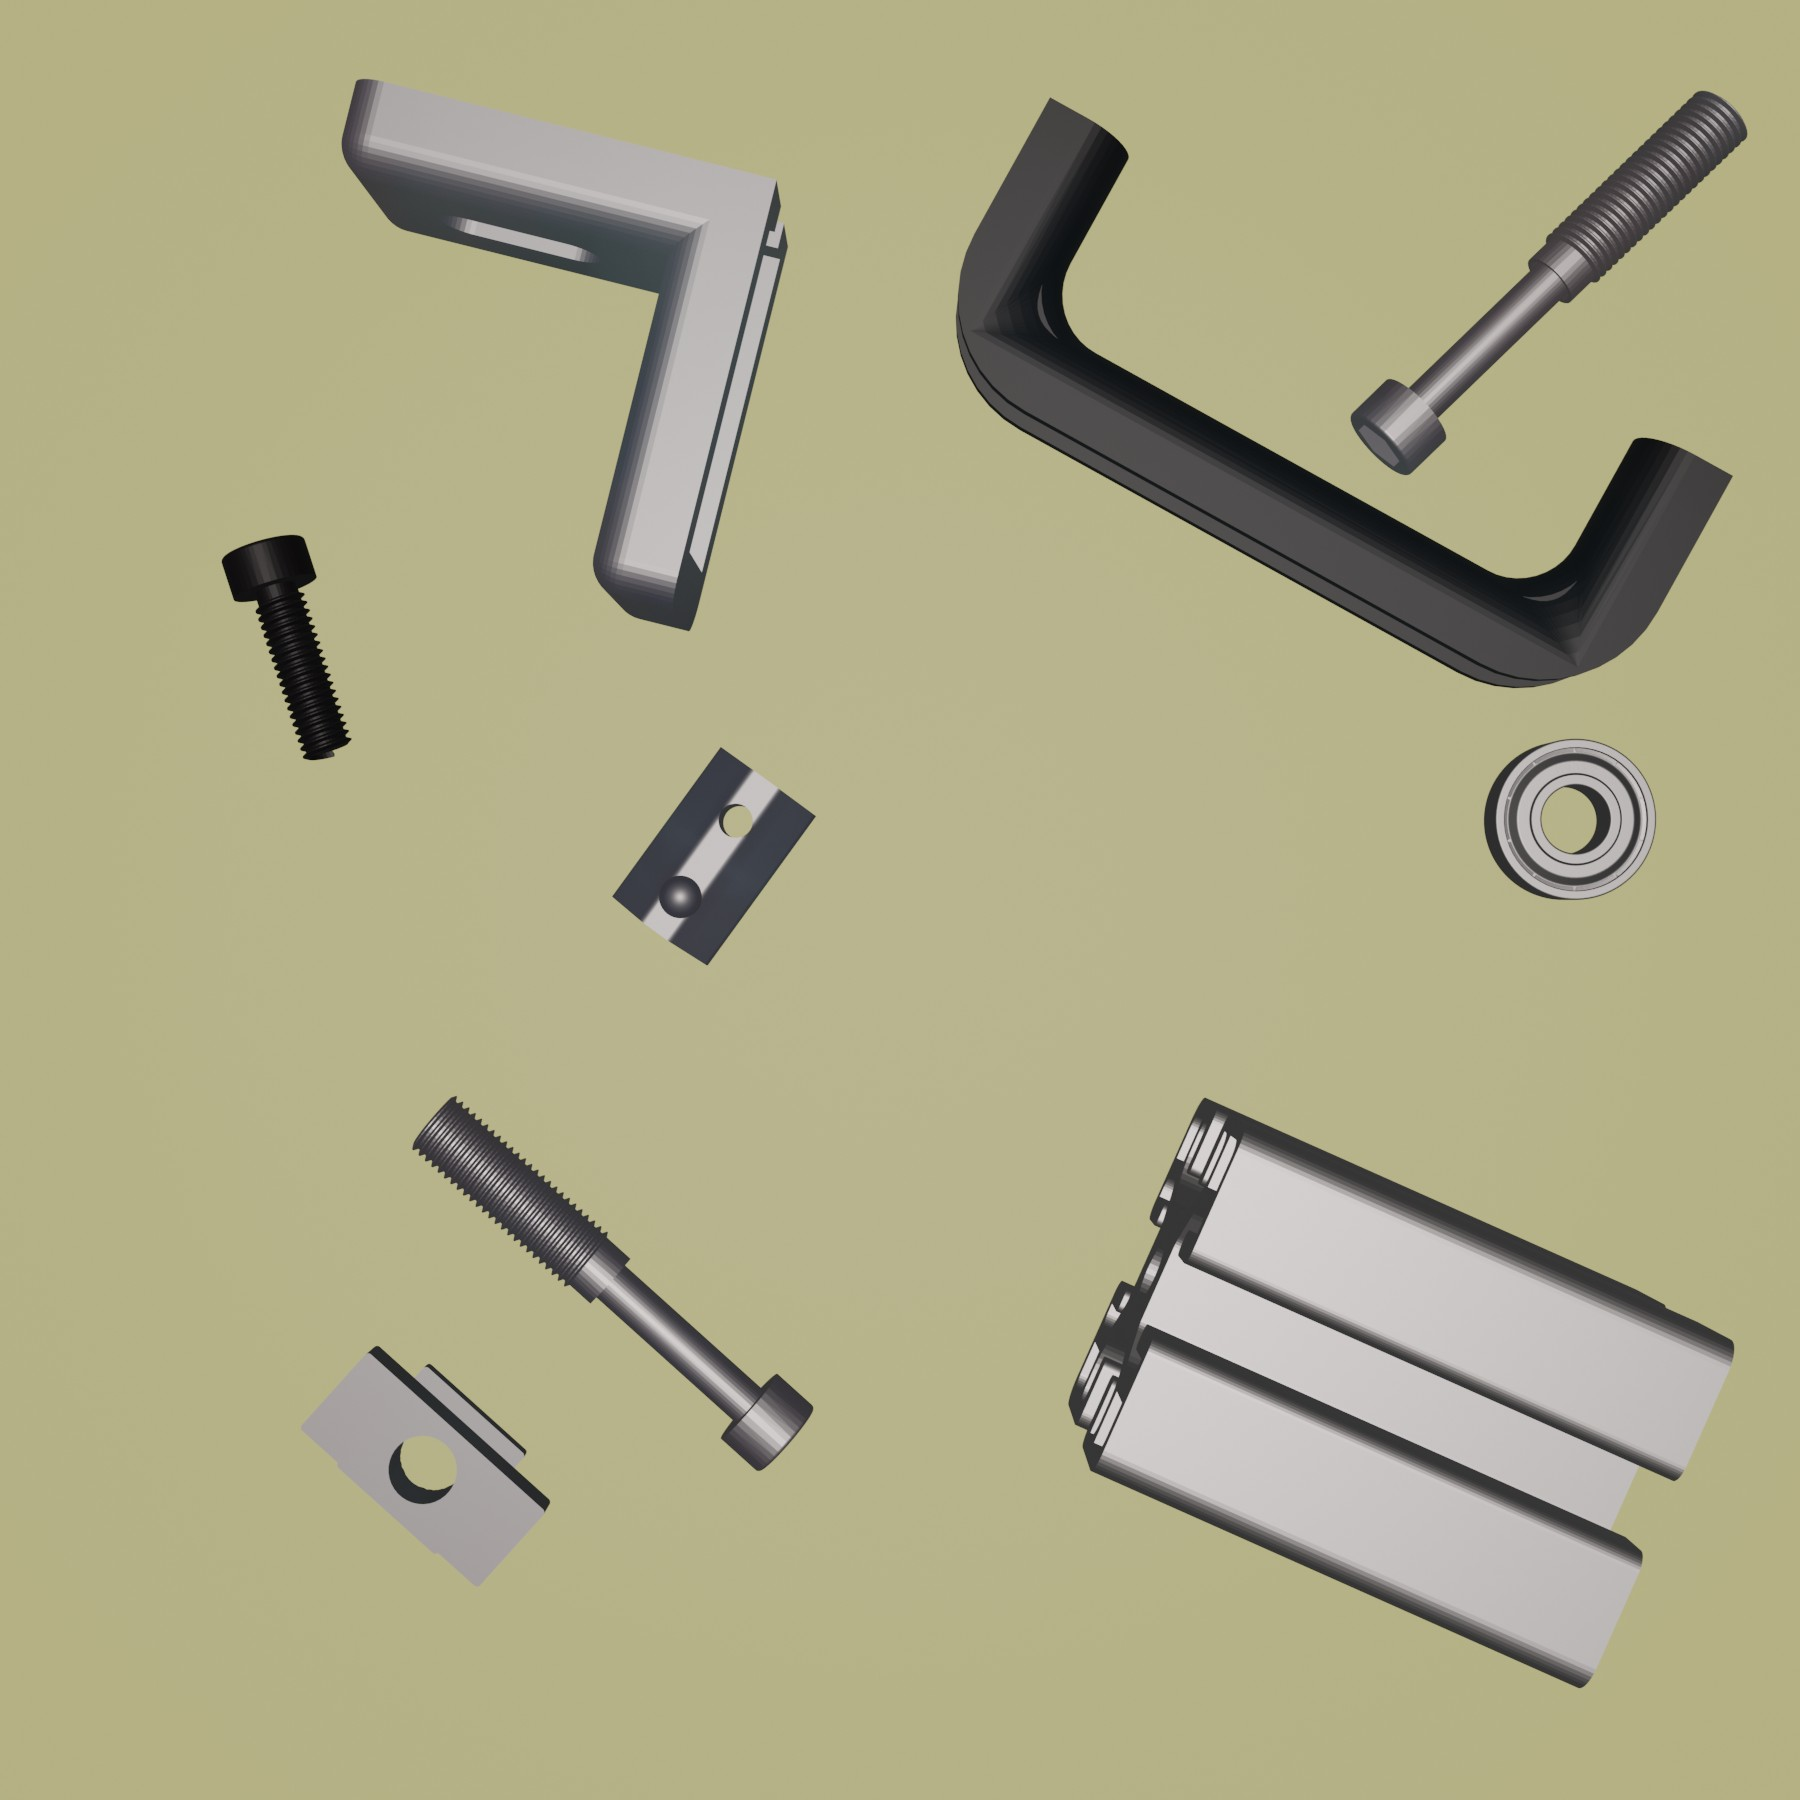Aluminium Extension: (1063, 1090, 1736, 1696)
Ball Bearing: (1482, 735, 1658, 903)
Multiwinkel: (336, 73, 791, 631)
Pull Handle: (954, 92, 1736, 691)
Shoulder Socket Head Cap Screw: (1347, 86, 1752, 478), (405, 1091, 818, 1472)
Socket Head Cap Screw: (221, 531, 354, 765)
T Nut Square: (298, 1342, 552, 1591)
T Spring Nut: (608, 747, 819, 968)
